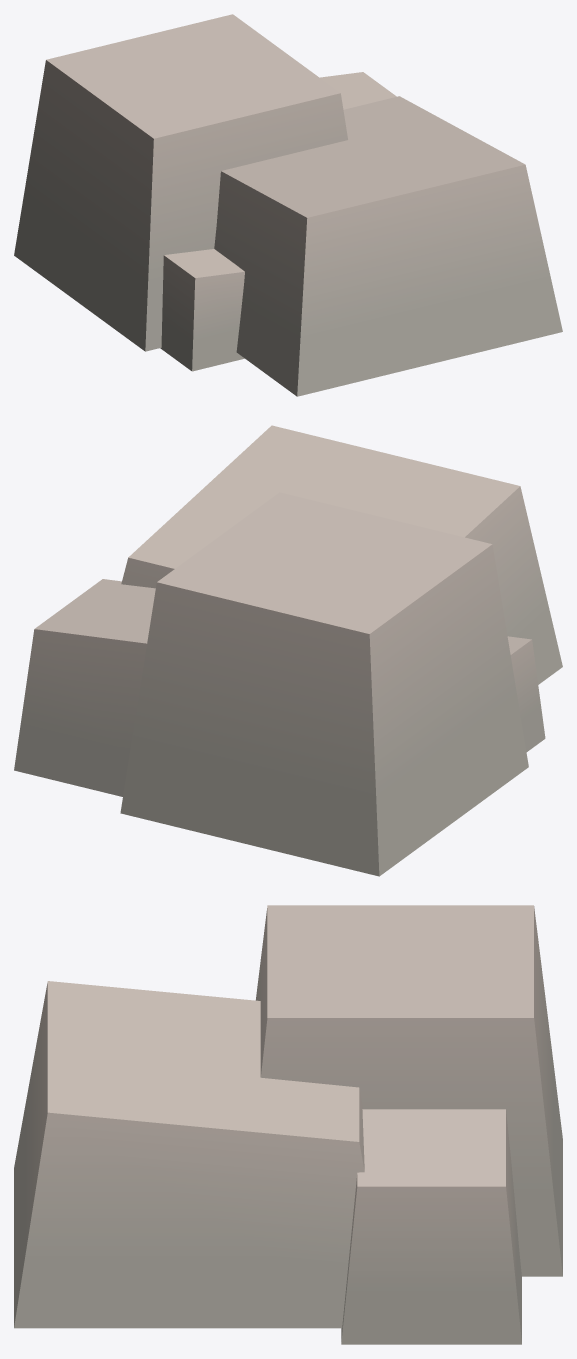
The model's file is [OBJ]Pedra_2.fbx.
The picture shows the model from 3 angles, top to bottom: view 1: azimuth 30°, elevation 25°; view 2: azimuth 150°, elevation 25°; view 3: azimuth 270°, elevation 25°; orthographic projection. The views are drawn at different scales.
Visible parts, largest first — view 1: [OBJ]Pedra.002; view 2: [OBJ]Pedra.002; view 3: [OBJ]Pedra.002.
Part boxes in pixels (<box>): [OBJ]Pedra.002: <box>14,14,562,396</box>; [OBJ]Pedra.002: <box>14,425,562,876</box>; [OBJ]Pedra.002: <box>14,905,562,1344</box>.
Bounding box in the file's own units: 30.59 × 17.38 × 34.88.
